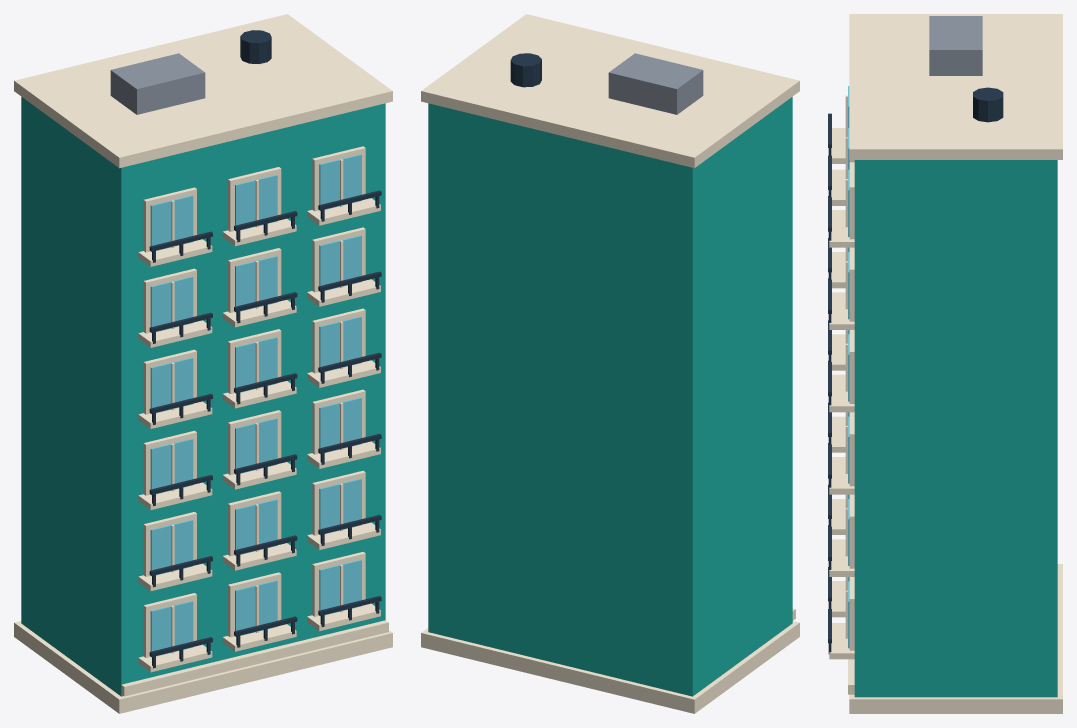
Rendered from 07_apartment_tall.obj.
3 views of the same model, side by side, from view 1: azimuth 30°, elevation 25°; view 2: azimuth 150°, elevation 25°; view 3: azimuth 270°, elevation 25° (orthographic).
Visible parts, largest first — view 1: part_1, part_2, part_0, part_148, part_3, part_77, part_5, part_53, part_125, part_101, part_29, part_37 (+48 smaller); view 2: part_1, part_2, part_0, part_148, part_149; view 3: part_1, part_2, part_0, part_148, part_149, part_23, part_95, part_71, part_143, part_47, part_119, part_15 (+12 smaller).
Boxes of the visible parts, <box> form: part_1: <box>21,97,385,696</box>; part_2: <box>14,14,392,168</box>; part_0: <box>14,621,392,713</box>; part_148: <box>110,53,205,114</box>; part_3: <box>121,620,388,696</box>; part_77: <box>150,357,193,414</box>; part_5: <box>150,601,193,657</box>; part_53: <box>150,438,193,495</box>; part_125: <box>150,195,193,251</box>; part_101: <box>150,276,193,332</box>; part_29: <box>150,520,193,576</box>; part_37: <box>235,499,277,555</box>; part_1: <box>428,97,792,696</box>; part_2: <box>421,14,799,168</box>; part_0: <box>421,621,799,713</box>; part_148: <box>608,53,703,114</box>; part_149: <box>510,53,541,87</box>; part_1: <box>854,160,1057,697</box>; part_2: <box>849,14,1062,159</box>; part_0: <box>849,564,1062,713</box>; part_148: <box>929,16,982,75</box>; part_149: <box>973,87,1003,122</box>; part_23: <box>829,623,854,659</box>; part_95: <box>829,376,854,412</box>; part_71: <box>829,458,854,494</box>; part_143: <box>829,211,854,247</box>; part_47: <box>829,540,854,576</box>; part_119: <box>829,293,854,329</box>; part_15: <box>831,581,845,617</box>.
Size of the model in its own units: 6 by 12.2 by 4.39.
